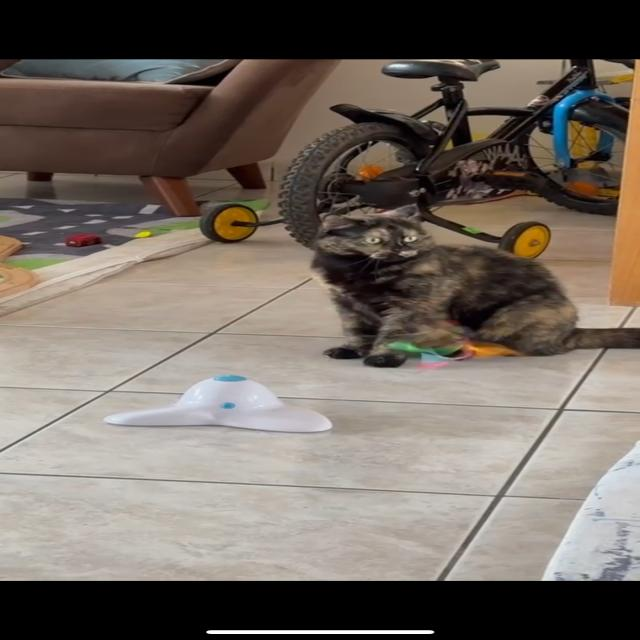authorized: (308, 203, 638, 360)
